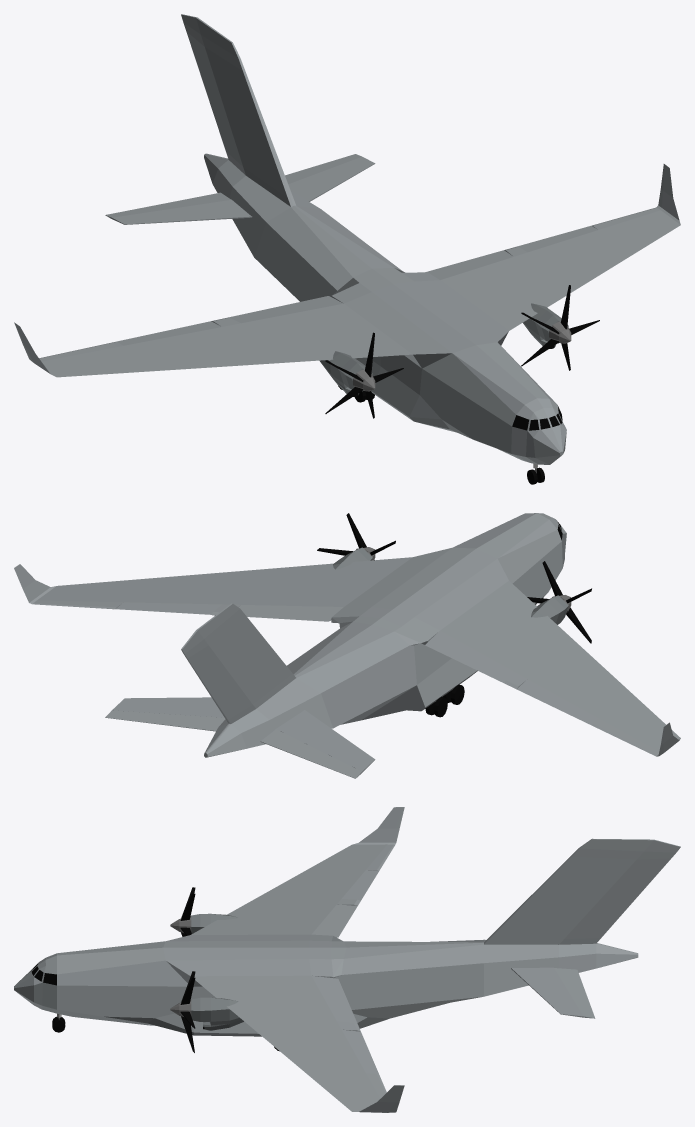
3 views of the same model, one above another, from view 1: azimuth 30°, elevation 25°; view 2: azimuth 150°, elevation 25°; view 3: azimuth 270°, elevation 25° (orthographic). The views are drawn at different scales.
Visible parts, largest first — view 1: Body.004, Rudder.004, propeller 2.016, propeller 2.018, R_Flap2.004, L_Flap2.004, R_elevator.004, R_Flap1.004; view 2: Body.004, Rudder.004, R_Flap2.004, R_elevator.004, L_Elevator.004, L_Flap2.004, R_Flap1.004, L_Flap1.004, propeller 2.018, Landing gear_RR.004, propeller 2.016, R_ailerone.004 (+1 smaller); view 3: Body.004, Rudder.004, L_Flap2.004, L_Elevator.004, R_Flap2.004, propeller 2.016, L_Flap1.004, R_Flap1.004, propeller 2.018.
Boxes of the visible parts, left/top/right/bottom form: Body.004: left=14, top=14, right=680, bottom=464; Rudder.004: left=186, top=31, right=242, bottom=166; propeller 2.016: left=521, top=285, right=599, bottom=370; propeller 2.018: left=325, top=332, right=403, bottom=418; R_Flap2.004: left=228, top=296, right=343, bottom=323; L_Flap2.004: left=425, top=250, right=513, bottom=279; R_elevator.004: left=105, top=192, right=230, bottom=218; R_Flap1.004: left=115, top=321, right=221, bottom=345; Body.004: left=14, top=513, right=680, bottom=772; Rudder.004: left=186, top=645, right=252, bottom=719; R_Flap2.004: left=425, top=630, right=513, bottom=682; R_elevator.004: left=260, top=729, right=362, bottom=778; L_Elevator.004: left=105, top=710, right=225, bottom=731; L_Flap2.004: left=238, top=605, right=343, bottom=621; R_Flap1.004: left=517, top=679, right=597, bottom=725; L_Flap1.004: left=115, top=602, right=221, bottom=614; propeller 2.018: left=527, top=561, right=591, bottom=643; Landing gear_RR.004: left=425, top=684, right=464, bottom=717; propeller 2.016: left=317, top=513, right=395, bottom=560; R_ailerone.004: left=595, top=720, right=658, bottom=756; Body.004: left=14, top=807, right=680, bottom=1112; Rudder.004: left=564, top=858, right=670, bottom=938; L_Flap2.004: left=311, top=975, right=357, bottom=1023; L_Elevator.004: left=554, top=968, right=595, bottom=1018; R_Flap2.004: left=311, top=904, right=357, bottom=937; propeller 2.016: left=170, top=971, right=195, bottom=1052; L_Flap1.004: left=342, top=1029, right=379, bottom=1074; R_Flap1.004: left=342, top=870, right=378, bottom=900; propeller 2.018: left=170, top=887, right=195, bottom=936.
Size of the model in its own units: 4030 by 1291 by 4079.
